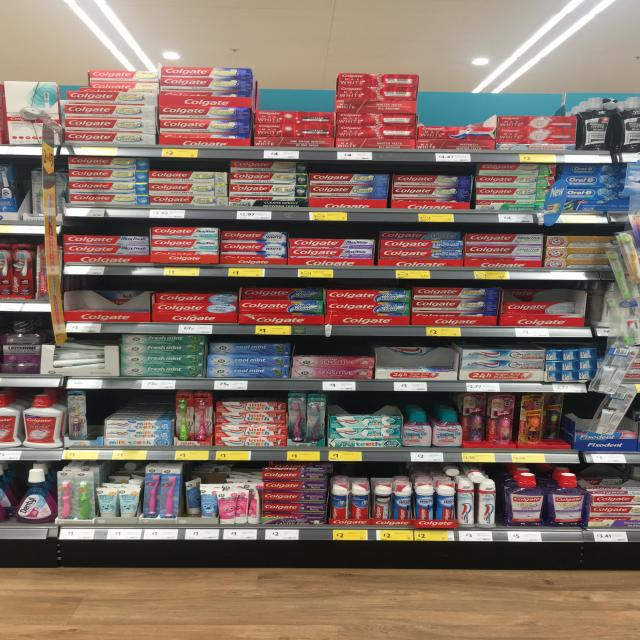unorganised: (51, 341, 109, 372), (89, 69, 161, 89), (544, 394, 565, 443), (236, 485, 261, 524), (380, 229, 464, 240), (183, 478, 202, 518)
